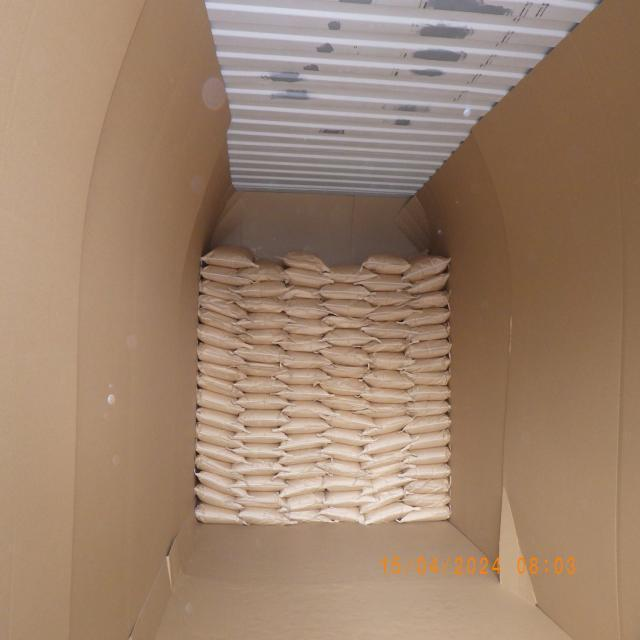gunny_bag: (194, 404, 250, 437), (196, 436, 247, 467), (201, 240, 258, 267), (194, 386, 244, 416), (196, 422, 246, 451), (196, 454, 247, 482), (194, 482, 244, 510), (198, 471, 249, 498), (228, 356, 288, 378), (198, 321, 245, 349), (316, 389, 373, 412), (198, 293, 247, 319), (404, 255, 451, 282), (200, 265, 255, 288), (237, 258, 289, 282), (359, 488, 407, 514), (198, 305, 244, 332), (362, 472, 416, 495), (197, 342, 246, 367), (196, 502, 247, 526), (241, 507, 294, 530), (323, 262, 378, 284), (362, 432, 410, 457), (361, 503, 421, 523), (322, 406, 376, 428), (319, 298, 378, 318), (359, 416, 412, 438), (234, 392, 292, 412), (282, 248, 330, 272), (278, 473, 328, 496), (273, 434, 336, 452), (406, 272, 449, 298), (236, 280, 294, 299), (199, 278, 243, 303), (360, 252, 410, 274), (234, 325, 288, 345), (234, 426, 290, 445), (279, 383, 332, 403), (396, 309, 449, 329), (198, 359, 248, 380), (318, 282, 376, 300), (394, 504, 452, 522), (234, 374, 286, 394), (322, 347, 374, 367), (317, 456, 369, 476), (321, 328, 377, 346), (285, 506, 338, 525), (236, 294, 286, 314), (238, 406, 288, 426), (280, 298, 330, 318), (280, 332, 330, 352), (280, 350, 330, 370), (322, 424, 372, 444), (358, 450, 408, 470), (198, 374, 243, 396), (282, 315, 334, 334), (358, 460, 410, 479), (319, 374, 368, 394), (360, 385, 411, 404), (322, 360, 370, 380), (322, 442, 370, 462), (401, 430, 449, 450), (234, 442, 290, 459), (403, 324, 450, 344), (402, 338, 449, 358), (234, 458, 284, 476), (404, 414, 449, 434), (402, 445, 449, 464), (275, 451, 334, 466), (362, 321, 414, 338), (282, 400, 331, 418), (324, 474, 373, 492), (358, 274, 409, 291), (363, 369, 414, 386), (239, 490, 287, 508), (272, 367, 326, 383), (404, 370, 452, 388), (406, 382, 451, 401), (279, 418, 332, 434), (273, 466, 333, 480), (370, 350, 412, 370), (284, 268, 330, 286), (282, 492, 328, 510), (233, 344, 285, 359), (402, 464, 450, 480), (238, 314, 292, 328), (408, 398, 450, 416), (324, 491, 374, 506), (408, 292, 448, 310), (402, 357, 450, 372), (406, 478, 451, 494), (402, 493, 450, 508), (362, 292, 413, 306), (359, 404, 410, 418), (322, 312, 372, 326), (366, 307, 416, 321), (322, 508, 365, 524), (236, 476, 288, 488), (365, 339, 413, 352), (286, 287, 322, 303)
